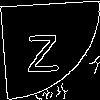Z: (25, 25, 60, 72)
